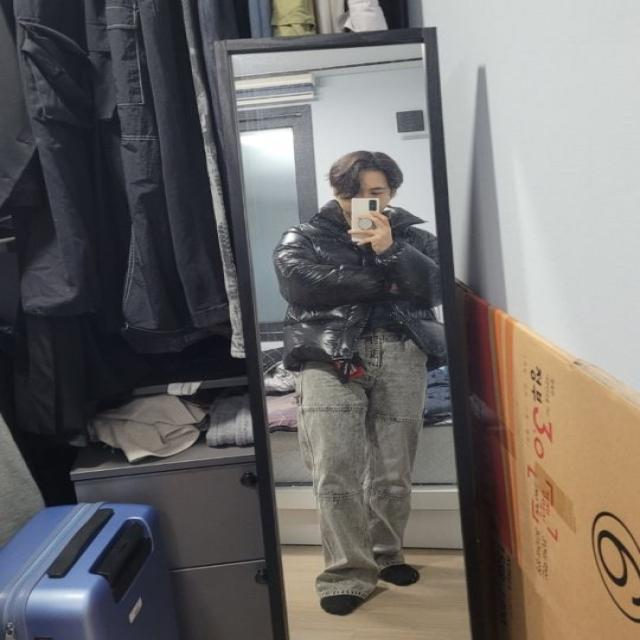denimpants: (299, 312, 430, 598)
padding: (275, 193, 442, 370)
